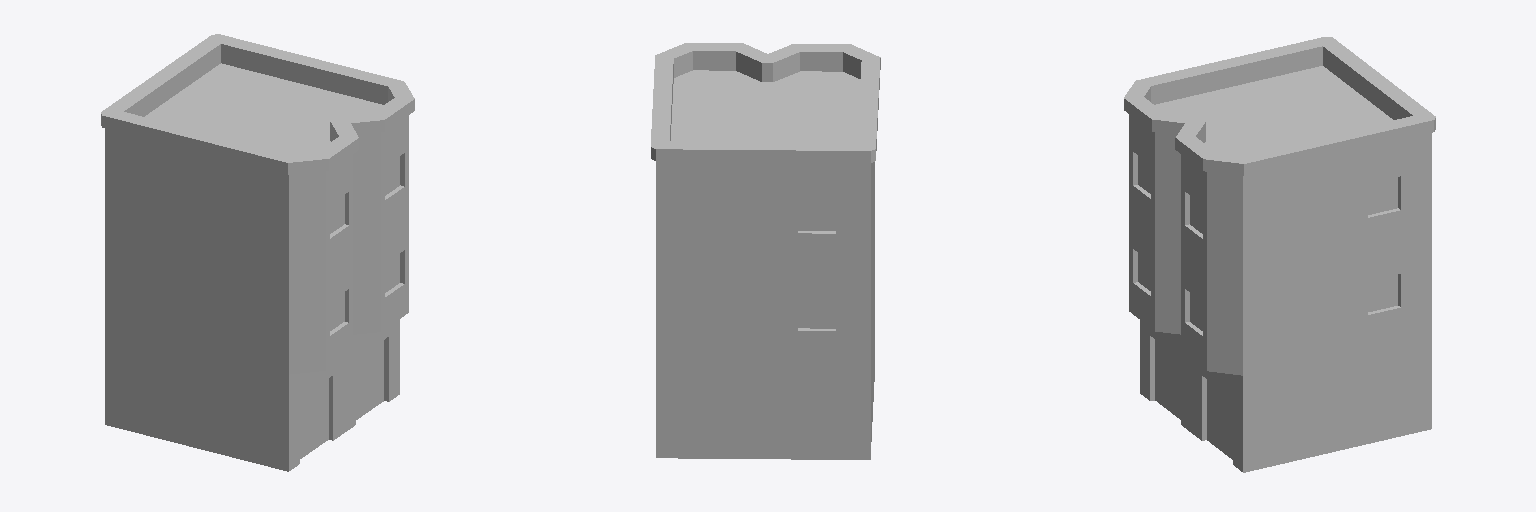
Rendered from variant_29.obj.
The picture shows the model from 3 angles: view 1: azimuth 30°, elevation 25°; view 2: azimuth 150°, elevation 25°; view 3: azimuth 270°, elevation 25°; orthographic projection.
Visible parts, largest first — view 1: Building; view 2: Building; view 3: Building.
Boxes of the visible parts, x1,y1,x2,y2 form: Building: [101, 34, 414, 471]; Building: [651, 43, 880, 459]; Building: [1124, 37, 1435, 472].
Bounding box in the file's own units: 1.13 × 1.28 × 1.16.